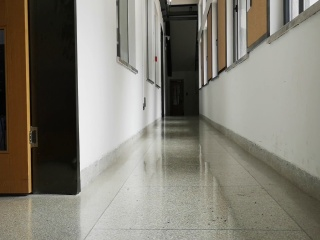room: (1, 2, 84, 197)
